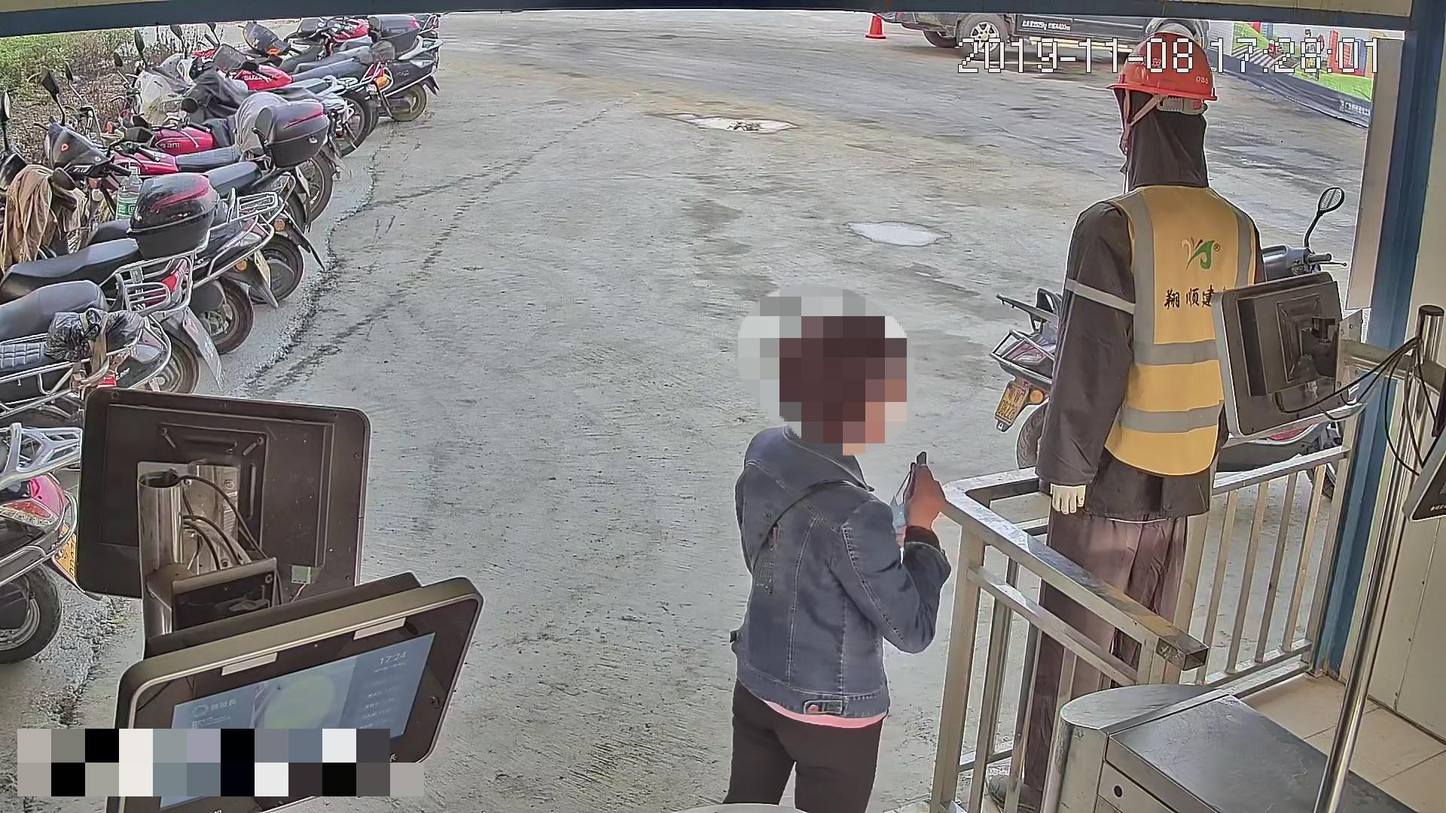hat: (1097, 32, 1219, 142)
head: (758, 296, 903, 434)
person: (981, 29, 1274, 813), (720, 291, 959, 813)
